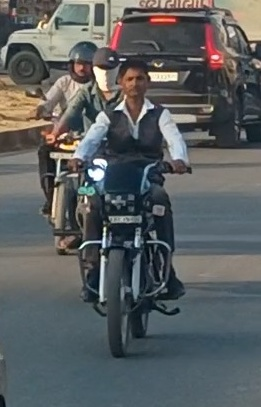BikeWithRider: (38, 42, 198, 362), (25, 35, 128, 259)
Helmet: (61, 37, 103, 86)
NoHelmet: (86, 43, 128, 95), (112, 55, 156, 104)
